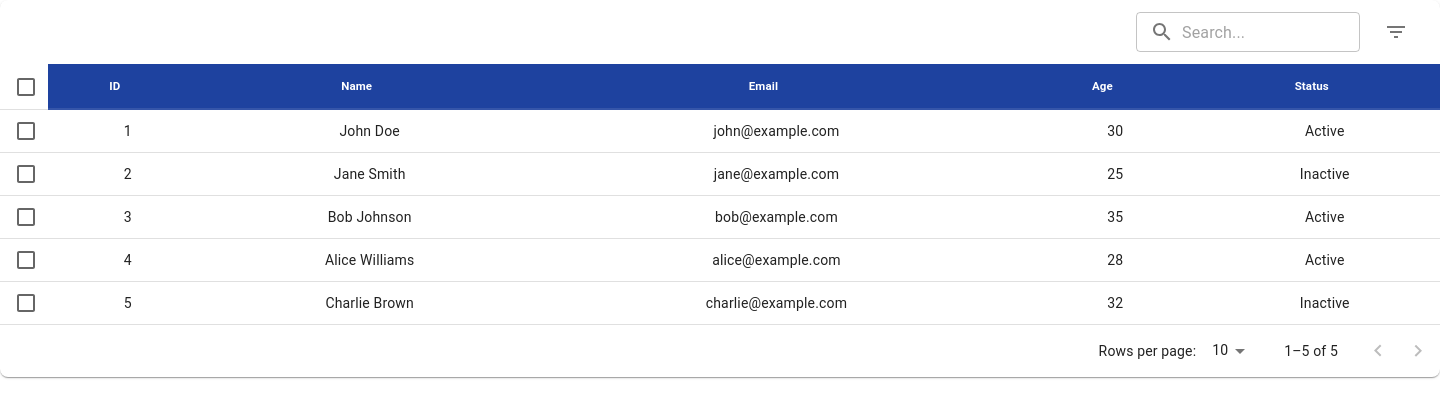
Test: DataTable Component › selects all rows when select all checkbox is clicked
Click the 1st checkbox. click: (26,86)
box: [14,74,38,98]
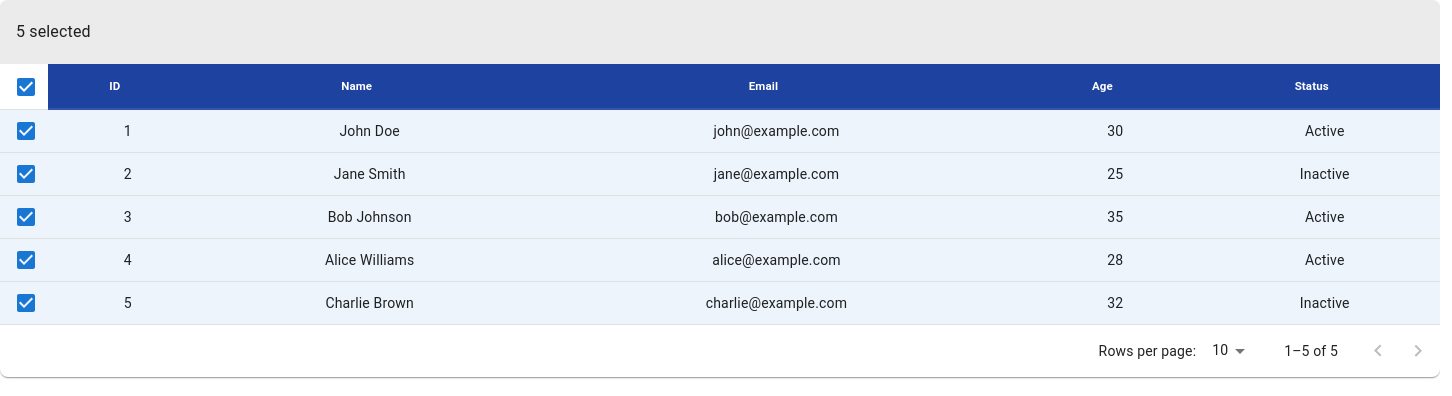
Expected: the 1st checkbox is checked, [14,74,38,98]
Expected: the checkbox labelled "1 John Doe john@example.com 30 Active" is checked, [0,110,1440,153]
Expected: the checkbox in the row of "John Doe" is checked, [14,119,38,143]
